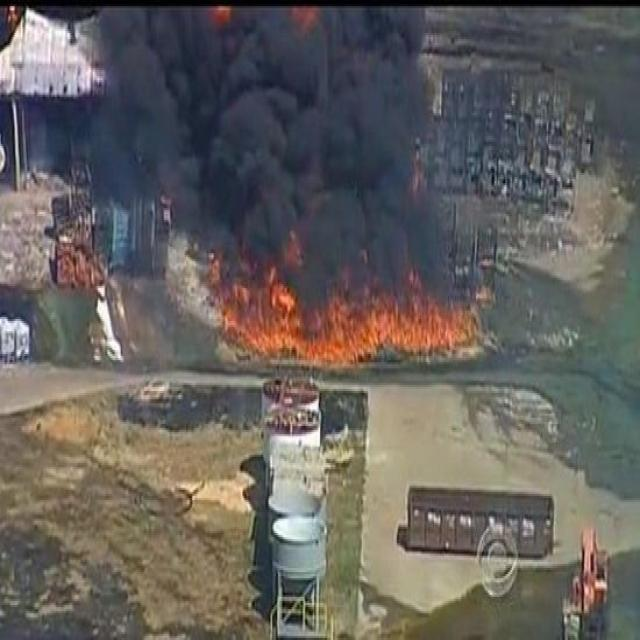fire: (206, 230, 484, 364)
smoke: (93, 2, 466, 286)
